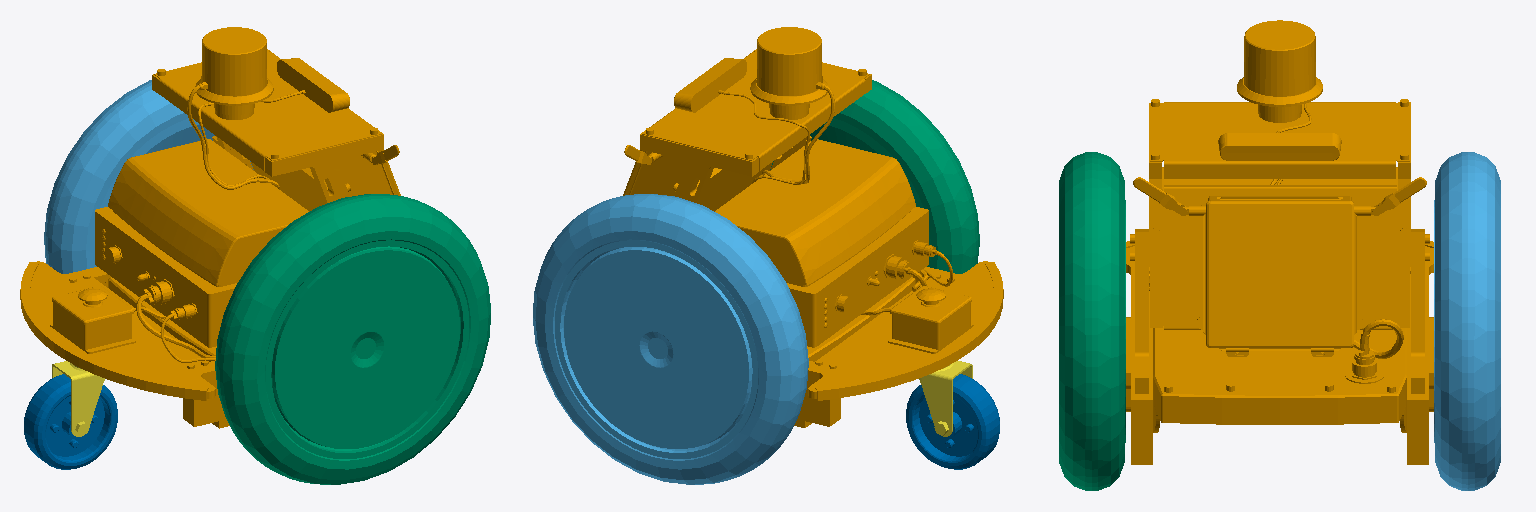
The robot description file, URDF, robot "carter":
<?xml version="1.0" encoding="UTF-8"?>
<robot name="carter">
   <link name="chassis_link">
      <visual>
         <origin rpy="0 0 0" xyz="0 0 0" />
         <geometry>
            <mesh filename="package://carter_description/urdf/meshes/chassis.obj" />
         </geometry>
         <material name="gray"/>
      </visual>
      <collision>
         <origin rpy="0 0 0" xyz="-0.07764248 -0.000000 0.14683718" />
         <geometry>
            <box size=".55 .40 .54"/>
         </geometry>
      </collision>
      <inertial>
         <origin rpy="0 0 0" xyz="-0.07764248 -0.000000 0.14683718" />
         <mass value="45.88" />
         <inertia ixx="1.182744" ixy="0.017957" ixz="-0.077476" iyx="0.017957" iyy="0.538664" iyz="0.000018" izx="-0.077476" izy="0.000018" izz="1.240229"/>
      </inertial>
   </link>
   <link name="left_wheel_link">
      <visual>
         <origin rpy="1.57057 -1.57057 0" xyz="0 0 0" />
         <geometry>
            <mesh filename="package://carter_description/urdf/meshes/side_wheel.obj" />
         </geometry>
         <material name="black"/>
      </visual>
      <collision>
         <origin rpy="1.57057 -1.57057 0" xyz="0 -0.05 0" />
         <geometry>
            <sphere radius = "0.240"/>
         </geometry>
      </collision>
      <inertial>
         <origin rpy="0 0 0" xyz="0 -0.05 0" />
         <mass value="4.195729" />
         <inertia ixx="0.063680" ixy="0.000000" ixz="0.000000" iyx="0.000000" iyy="0.121410" iyz="0.000000" izx="0.000000" izy="0.000000" izz="0.063680"/>
      </inertial>
   </link>
   <link name="right_wheel_link">
      <visual>
         <origin rpy="-1.57057 -1.57057 0" xyz="0 0 0" />
         <geometry>
            <mesh filename="package://carter_description/urdf/meshes/side_wheel.obj" />
         </geometry>
         <material name="black"/>
      </visual>
      <collision>
         <origin rpy="-1.57057 -1.57057 0" xyz="0 .05 0" />
         <geometry>
            <sphere radius = "0.240"/>
         </geometry>
      </collision>
      <inertial>
         <origin rpy="0 0 0" xyz="0 .05 0" />
         <mass value="4.195729" />
         <inertia ixx="0.063680" ixy="0.000000" ixz="0.000000" iyx="0.000000" iyy="0.121410" iyz="0.000000" izx="0.000000" izy="0.000000" izz="0.063680"/>
      </inertial>
   </link>
   <link name="rear_pivot_link">
      <visual>
         <origin rpy="-1.57057 0 0" xyz="-.03809695 0 -.088" />
         <geometry>
            <mesh filename="package://carter_description/urdf/meshes/pivot.obj" />
         </geometry>
         <material name="black"/>
      </visual>
      <collision>
         <origin rpy="0 0 0" xyz="-.01 0 -.03" />
         <geometry>
            <box size=".09 .08 .12"/>
         </geometry>
      </collision>
      <inertial>
         <origin rpy="0 0 0" xyz="-.01 0 -.03" />
         <mass value="0.579519"/>
         <inertia ixx="0.001361" ixy="-0.000003" ixz="0.000347" iyx="-0.000003" iyy="0.001287" iyz="-0.000010" izx="0.000347" izy="-0.000010" izz="0.000632"/>
      </inertial>
   </link>
   <link name="rear_wheel_link">
      <visual>
         <origin rpy="1.57057 0 0" xyz="0 0 0" />
         <geometry>
            <mesh filename="package://carter_description/urdf/meshes/caster_wheel.obj" />
         </geometry>
      </visual>
      <collision>
         <origin rpy="1.57057 0 0" xyz="0 0 0" />
         <geometry>
            <sphere radius=".076"/>
         </geometry>
      </collision>
      <inertial>
         <origin rpy="1.57057 0 0" xyz="0.000000 0.000000 0.000000" />
         <mass value="1.25"/>
         <inertia ixx="0.02888" ixy="0.000000" ixz="0.000000" iyx="0.000000" iyy="0.02888" iyz="0.000000" izx="0.000000" izy="0.000000" izz="0.02888"/>
      </inertial>
   </link>
   <link name="com_offset">
      <collision>
         <origin rpy="0 0 0" xyz="0 0 0" />
         <geometry>
            <box size=".25 .25 .1"/>
         </geometry>
      </collision>
      <inertial>
         <origin rpy="0 0 0" xyz="0 0 0" />
         <mass value="20.0" />
         <inertia ixx="1.208" ixy="0" ixz="0" iyy="1.208" iyz="0" izz="2.08" />
      </inertial>
   </link>
   <link name="imu">
      <collision>
         <origin rpy="0 0 0" xyz="0 0 0" />
         <geometry>
            <box size=".1 .1 .1"/>
         </geometry>
      </collision>
      <inertial>
         <origin rpy="0 0 0" xyz="0 0 0" />
         <mass value=".1" />
         <inertia ixx="0.0001667" ixy="0" ixz="0" iyy="0.0001667" iyz="0" izz="0.0001667" />
      </inertial>
   </link>
   <joint name="com_joint" type="fixed">
      <origin rpy="0 0 0" xyz="-.3 0 0" />
      <axis xyz="0 1 0" />
      <parent link="chassis_link" />
      <child link="com_offset" />
   </joint>
   <joint name="imu_joint" type="fixed">
      <origin rpy="0 0 0" xyz="0 0 0" />
      <axis xyz="0 1 0" />
      <parent link="chassis_link" />
      <child link="imu" />
   </joint>
   <joint name="left_wheel" type="continuous">
      <origin rpy="0 0 0" xyz="0 0.31420517 0" />
      <axis xyz="0 1 0" />
      <parent link="chassis_link" />
      <child link="left_wheel_link" />
   </joint>
   <joint name="right_wheel" type="continuous">
      <origin rpy="0 0 0" xyz="0 -0.31420517 0" />
      <axis xyz="0 1 0" />
      <parent link="chassis_link" />
      <child link="right_wheel_link" />
   </joint>
   <joint name="rear_pivot" type="continuous">
      <origin rpy="0 0 0" xyz="-0.31613607 0 -.0758" />
      <axis xyz="0 0 1" />
      <parent link="chassis_link" />
      <child link="rear_pivot_link" />
   </joint>
   <joint name="rear_axle" type="continuous">
      <origin rpy="0 0 0" xyz="-.03809695 0 -.08961022" />
      <axis xyz="0 1 0" />
      <parent link="rear_pivot_link" />
      <child link="rear_wheel_link" />
   </joint>
</robot>

--- Facts derived from the render (not from the file) ---
Views: 3 orthographic renders of the robot side by side, from view 1: azimuth 30°, elevation 25°; view 2: azimuth 150°, elevation 25°; view 3: azimuth 270°, elevation 25°.
Model carter with 7 links and 6 joints (4 continuous, 2 fixed), rooted at chassis_link, posed every joint at zero.
Visible links, largest first — view 1: chassis_link, right_wheel_link, left_wheel_link, rear_wheel_link, rear_pivot_link; view 2: chassis_link, left_wheel_link, right_wheel_link, rear_wheel_link, rear_pivot_link; view 3: chassis_link, right_wheel_link, left_wheel_link.
Boxes of the visible links, left/top/right/bottom form: chassis_link: left=20, top=27, right=400, bottom=428; right_wheel_link: left=215, top=194, right=490, bottom=484; left_wheel_link: left=44, top=80, right=253, bottom=273; rear_wheel_link: left=24, top=374, right=117, bottom=469; rear_pivot_link: left=52, top=361, right=104, bottom=436; chassis_link: left=623, top=27, right=1003, bottom=427; left_wheel_link: left=533, top=194, right=808, bottom=484; right_wheel_link: left=770, top=80, right=979, bottom=273; rear_wheel_link: left=906, top=374, right=999, bottom=469; rear_pivot_link: left=919, top=361, right=972, bottom=436; chassis_link: left=1126, top=20, right=1433, bottom=464; right_wheel_link: left=1059, top=152, right=1125, bottom=490; left_wheel_link: left=1434, top=152, right=1500, bottom=490.
Bounding box of the posed robot: 0.6708 × 0.6263 × 0.6618 m (x, y, z).
5 mesh visuals loaded from 4 distinct referenced files (4 OBJ).
